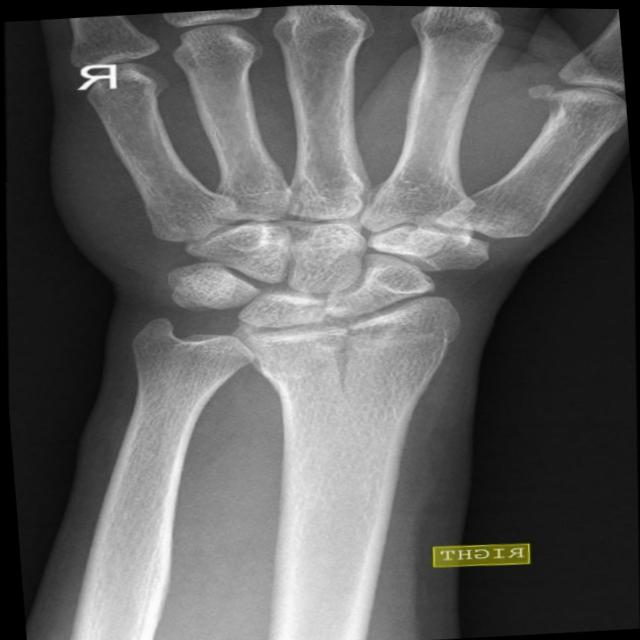Linear: (284, 308, 387, 409)
